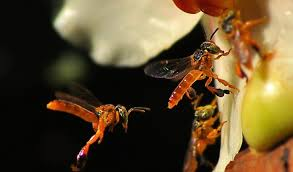jataí: (36, 79, 155, 172), (143, 24, 243, 110), (174, 104, 222, 171)
